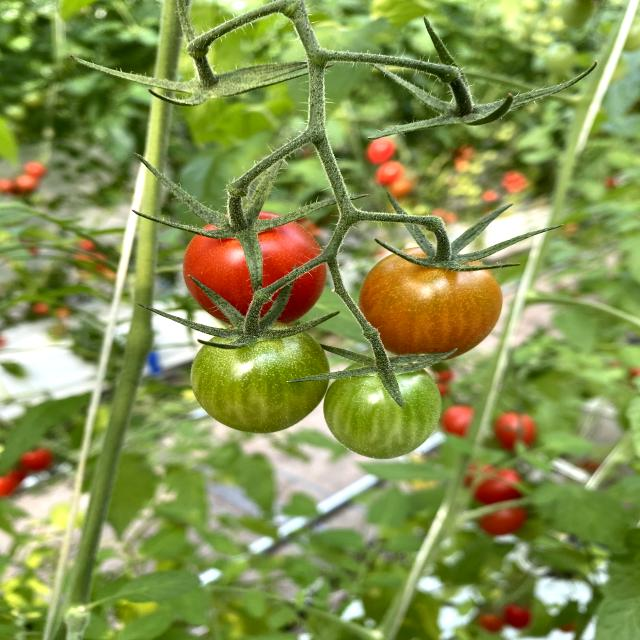ripe1: (359, 246, 503, 360), (190, 323, 330, 433), (324, 360, 440, 459)
ripe2: (183, 213, 328, 325)
